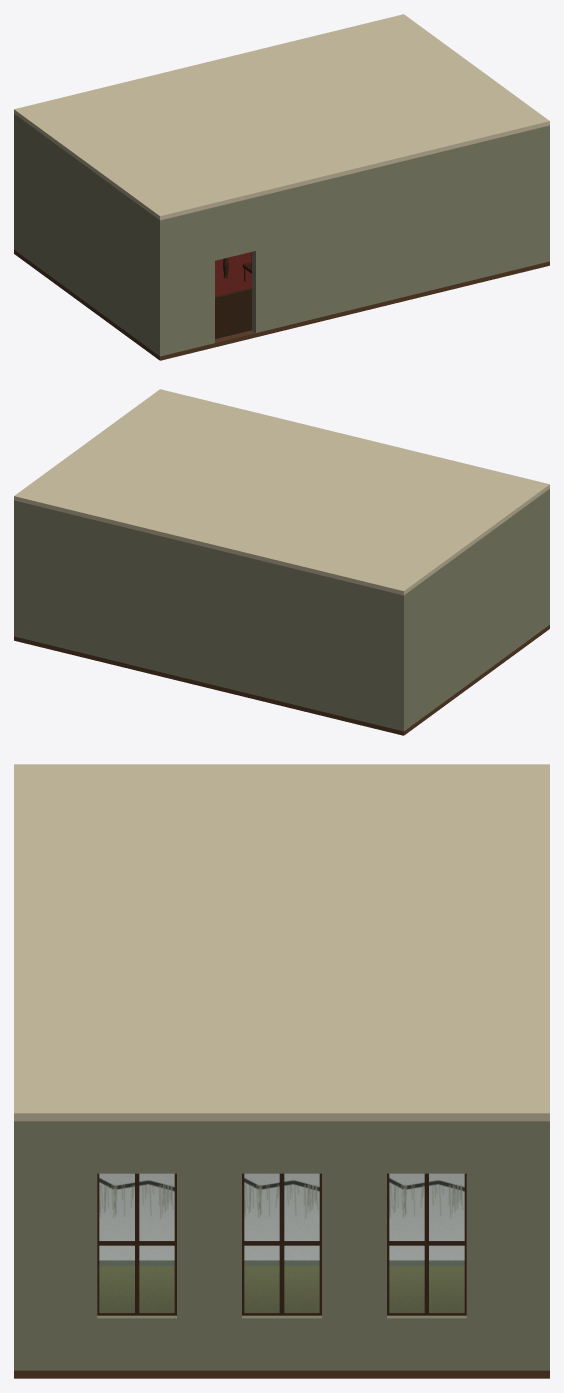
File: meeting_room.glb
3 renders of one model, top to bottom at view 1: azimuth 30°, elevation 25°; view 2: azimuth 150°, elevation 25°; view 3: azimuth 270°, elevation 25°, orthographic. The views are drawn at different scales.
Visible parts, largest first — view 1: Room-col, Rug; view 2: Room-col; view 3: Room-col.
Boxes of the visible parts, <box> form: Room-col: <box>14,14,549,360</box>; Rug: <box>215,252,251,296</box>; Room-col: <box>14,389,549,735</box>; Room-col: <box>14,764,549,1378</box>.
Bounding box in the file's own units: 11.4 × 4.04 × 7.4.
21 materials, 2 textured.
